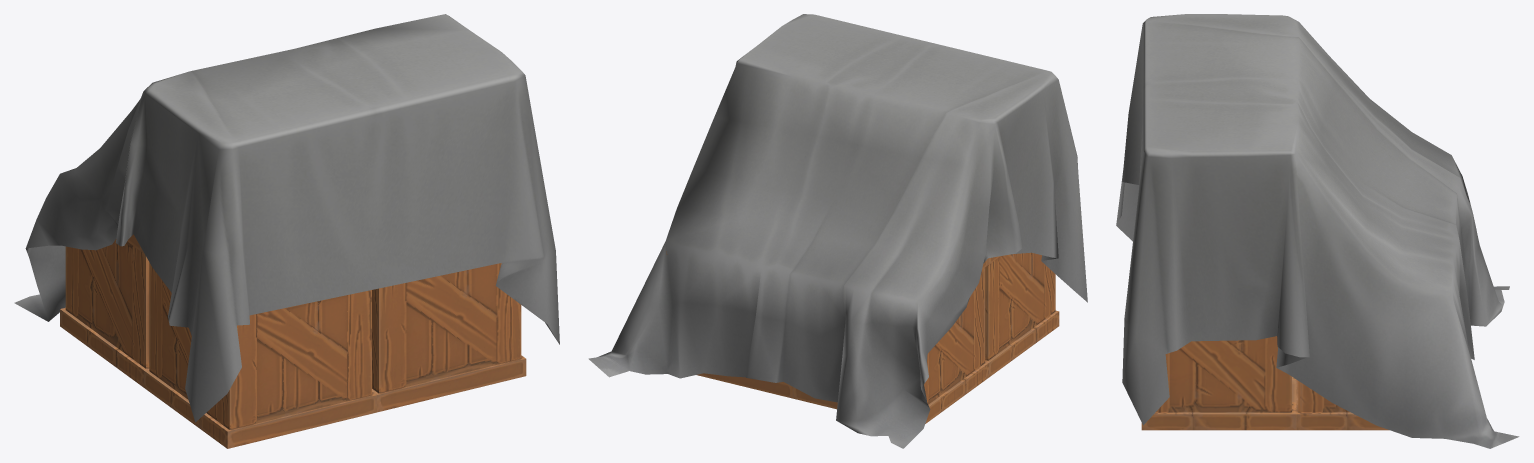
The model's file is Pfb_Box_GRP.fbx.
The picture shows the model from 3 angles, left to right: view 1: azimuth 30°, elevation 25°; view 2: azimuth 150°, elevation 25°; view 3: azimuth 270°, elevation 25°; orthographic projection. The views are drawn at different scales.
Visible parts, largest first — view 1: MAT_Canvas_02_Smooth 1, Mat_WoodBox_01_1; view 2: MAT_Canvas_02_Smooth 1, Mat_WoodBox_01_1; view 3: MAT_Canvas_02_Smooth 1, Mat_WoodBox_01_1.
Boxes of the visible parts, x1=… form: MAT_Canvas_02_Smooth 1: x1=14, y1=14, x2=559, y2=422; Mat_WoodBox_01_1: x1=60, y1=234, x2=526, y2=448; MAT_Canvas_02_Smooth 1: x1=588, y1=14, x2=1087, y2=448; Mat_WoodBox_01_1: x1=666, y1=251, x2=1059, y2=423; MAT_Canvas_02_Smooth 1: x1=1116, y1=14, x2=1519, y2=448; Mat_WoodBox_01_1: x1=1141, y1=336, x2=1389, y2=430.
Bounding box in the file's own units: 2.08 × 1.52 × 1.98.
2 materials, 2 textured.
